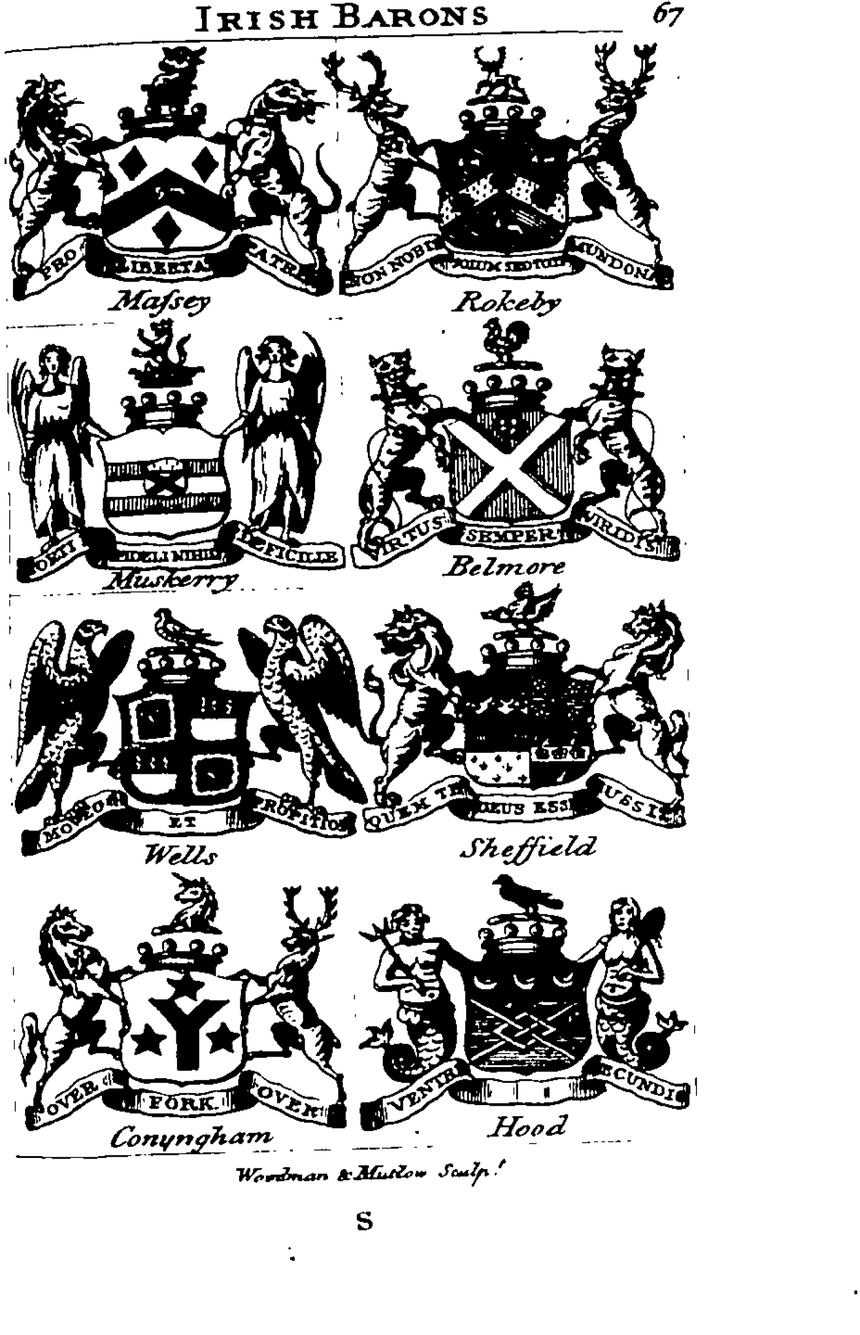coat_of_arms: (7, 597, 369, 878), (8, 871, 358, 1150), (349, 875, 715, 1141), (7, 316, 353, 597), (357, 592, 697, 877), (351, 317, 705, 586), (338, 50, 682, 317), (1, 54, 333, 321)
